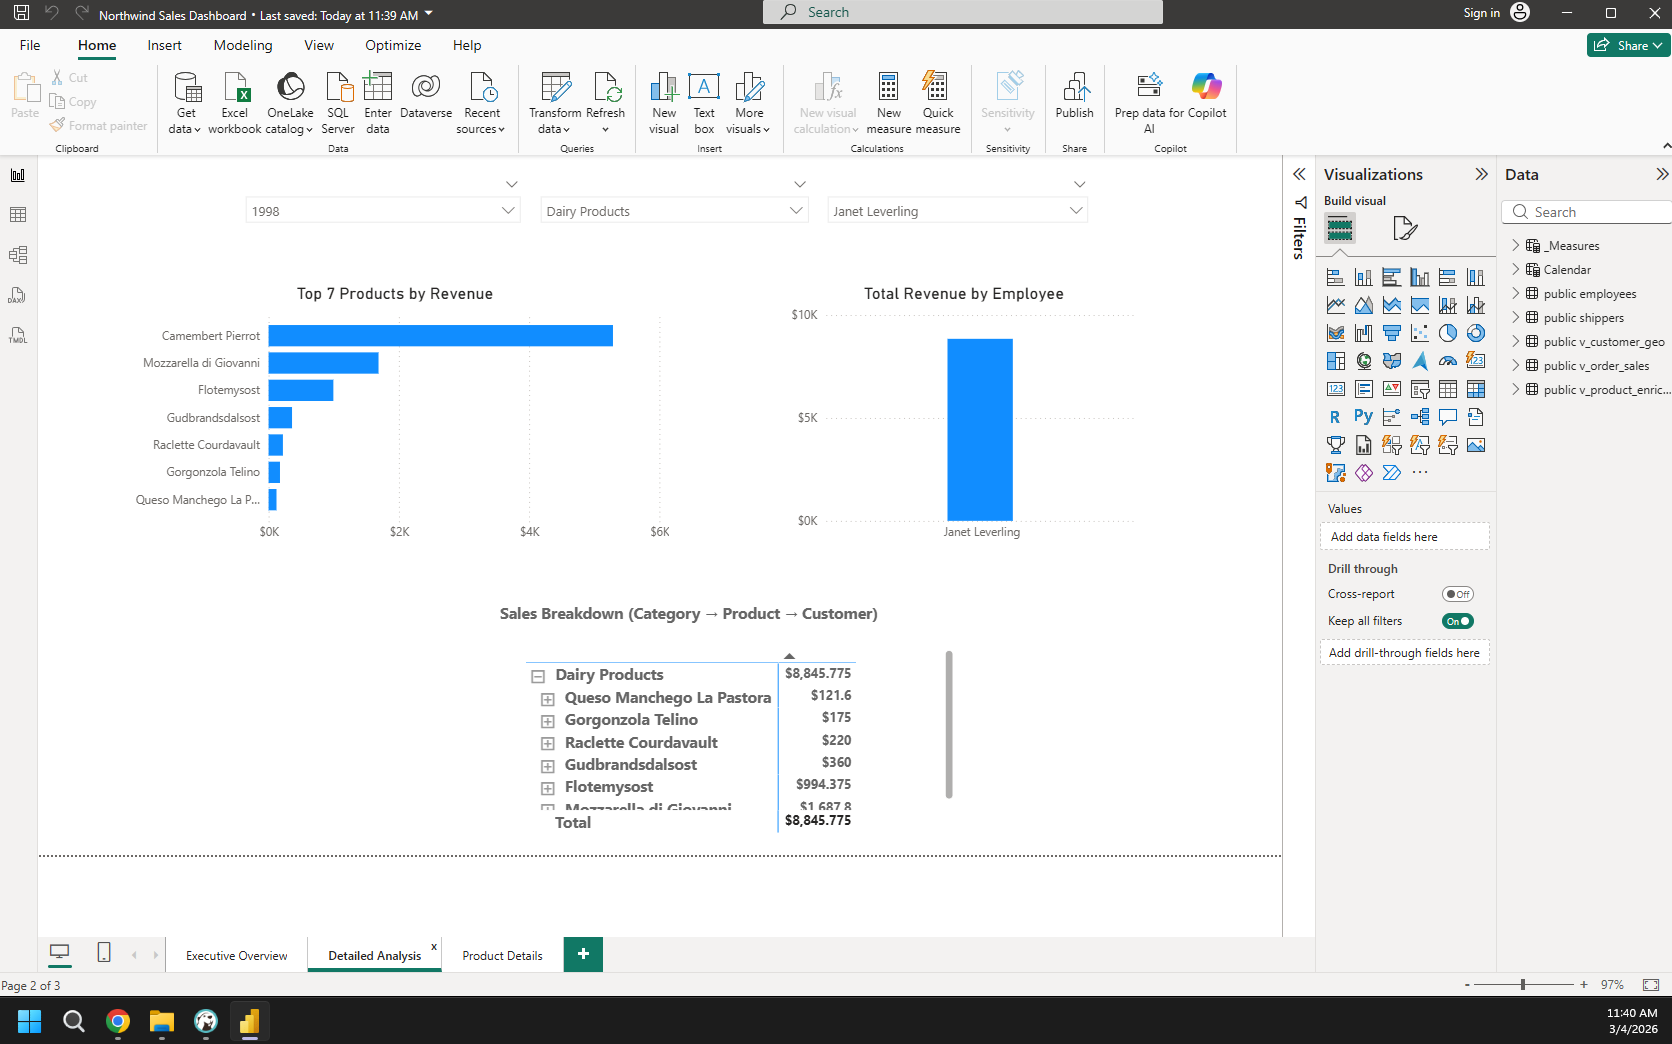

The page's visual inventory and layout, read from the dashboard file:
{"tool":"powerbi","page":{"name":"Detailed Analysis","canvas":[1280,720],"ordinal":1},"visuals":[{"type":"clusteredBarChart","fields":{"Category":["public v_product_enriched.product_name"],"Y":["_Measures.Total Revenue"]},"box":[80.3,131.7,574.1,274.7],"z":0},{"type":"clusteredColumnChart","title":"Total Revenue by Employee","fields":{"Category":["public employees.full_name"],"Y":["_Measures.Total Revenue"]},"box":[769.6,131.7,366.3,274.7],"z":1000},{"type":"pivotTable","title":"Sales Breakdown","fields":{"Rows":["public v_product_enriched.category_name","public v_product_enriched.product_name","public v_customer_geo.company_name"],"Columns":["public v_product_enriched.category_name"],"Values":["_Measures.Total Revenue"]},"box":[496.7,503.7,450.2,197.9],"z":2000},{"type":"slicer","fields":{"Values":["Calendar.Year"]},"box":[204.2,22.4,302.7,71.6],"z":3000},{"type":"slicer","fields":{"Values":["public v_product_enriched.category_name"]},"box":[506.9,22.4,295.5,71.6],"z":4000},{"type":"slicer","fields":{"Values":["public employees.full_name"]},"box":[802.4,22.4,288.4,71.6],"z":5000},{"type":"textbox","box":[81,504,416,198],"z":6000},{"type":"textbox","box":[468.2,455.8,403.3,48.4],"z":7000}]}

Visuals, with their boxes on the page's 1280x720 design canvas (x1, y1, x2, y2). These are canvas units, not pixel positions in the 1672x1044 screenshot, which may show the page scaled, cropped or inside an application window:
clusteredBarChart - public v_product_enriched.product_name x _Measures.Total Revenue: select_region(80, 132, 654, 406)
"Total Revenue by Employee" clusteredColumnChart: select_region(770, 132, 1136, 406)
"Sales Breakdown" pivotTable: select_region(497, 504, 947, 702)
slicer - Calendar.Year: select_region(204, 22, 507, 94)
slicer - public v_product_enriched.category_name: select_region(507, 22, 802, 94)
slicer - public employees.full_name: select_region(802, 22, 1091, 94)
textbox: select_region(81, 504, 497, 702)
textbox: select_region(468, 456, 872, 504)
